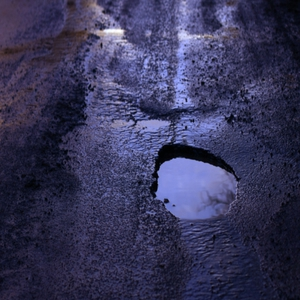pothole: (145, 142, 243, 226)
